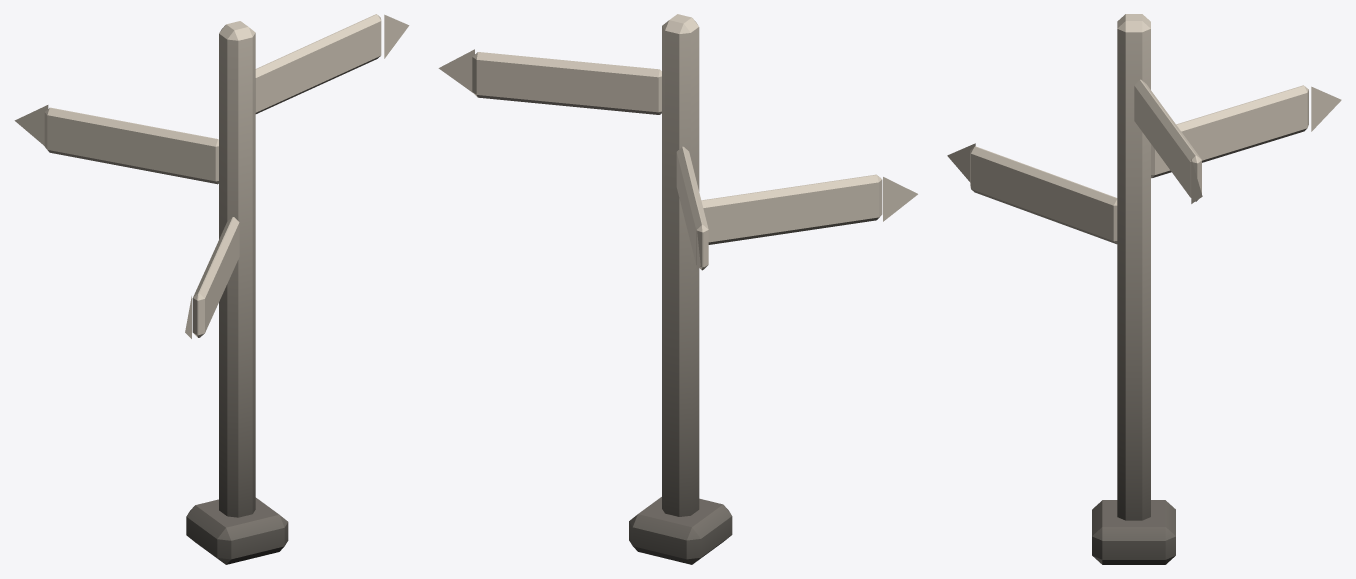
The model's file is SM_VK_Prop_Signpost.fbx.
3 renders of one model, left to right at view 1: azimuth 30°, elevation 25°; view 2: azimuth 150°, elevation 25°; view 3: azimuth 270°, elevation 25°, orthographic. The views are drawn at different scales.
Parts seen in each view (by area): view 1: SM_VK_Prop_Signpost.001; view 2: SM_VK_Prop_Signpost.001; view 3: SM_VK_Prop_Signpost.001.
Boxes of the visible parts, x1,y1,x2,y2 form: SM_VK_Prop_Signpost.001: (14,14,409,564); SM_VK_Prop_Signpost.001: (438,14,917,564); SM_VK_Prop_Signpost.001: (947,14,1341,564).
Bounding box in the file's own units: 1.96 × 2.8 × 1.88.
